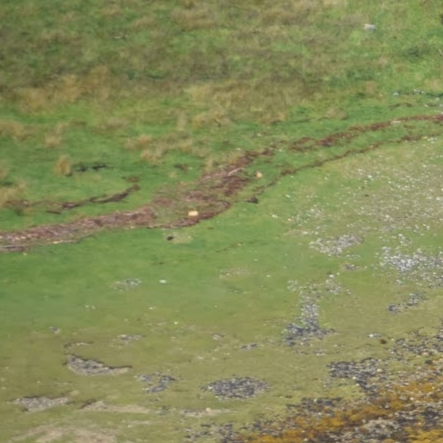white_in_green: (173, 196, 216, 231), (241, 159, 278, 190)
